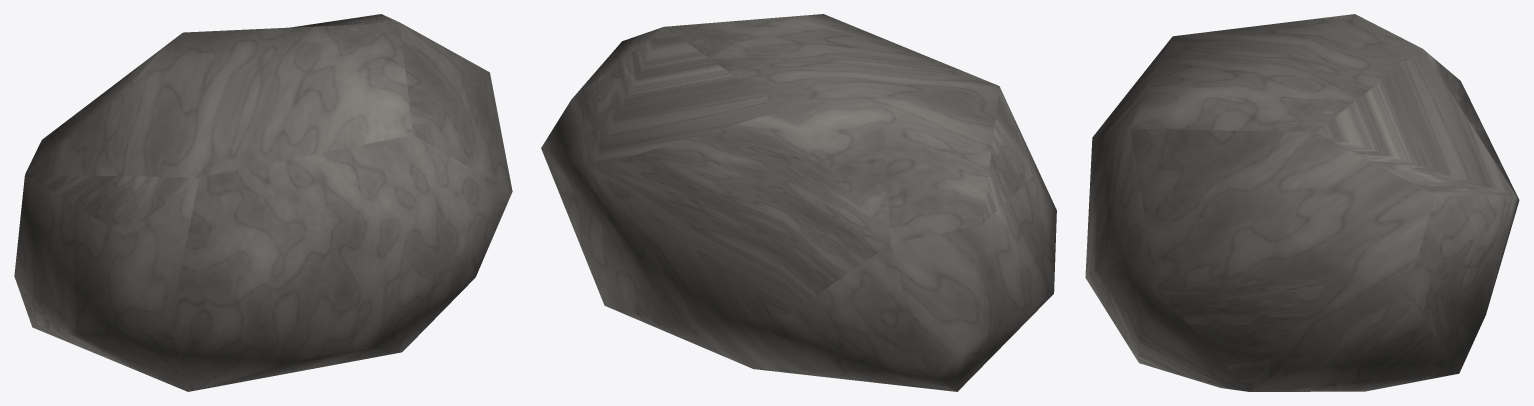
File: Pebble_Hull.fbx
3 renders of one model, left to right at view 1: azimuth 30°, elevation 25°; view 2: azimuth 150°, elevation 25°; view 3: azimuth 270°, elevation 25°, orthographic. The views are drawn at different scales.
Parts seen in each view (by area): view 1: Pebble_Hull; view 2: Pebble_Hull; view 3: Pebble_Hull.
Boxes of the visible parts, x1=… form: Pebble_Hull: x1=14, y1=14, x2=512, y2=391; Pebble_Hull: x1=541, y1=14, x2=1056, y2=391; Pebble_Hull: x1=1085, y1=14, x2=1519, y2=391.
Bounding box in the file's own units: 0.6332 × 0.3545 × 0.5076.
